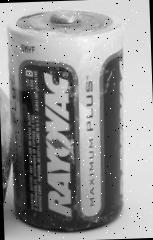electronic: (2, 5, 140, 234)
